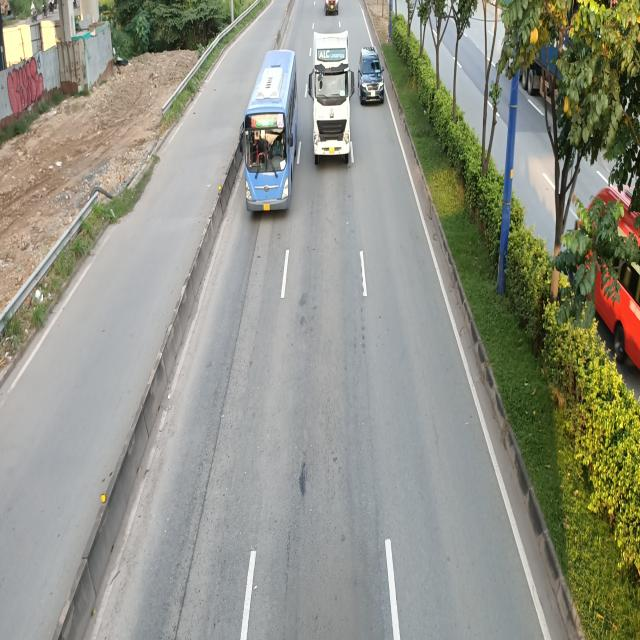car: (356, 46, 384, 106)
coach: (239, 51, 300, 216)
container: (310, 29, 358, 162)
